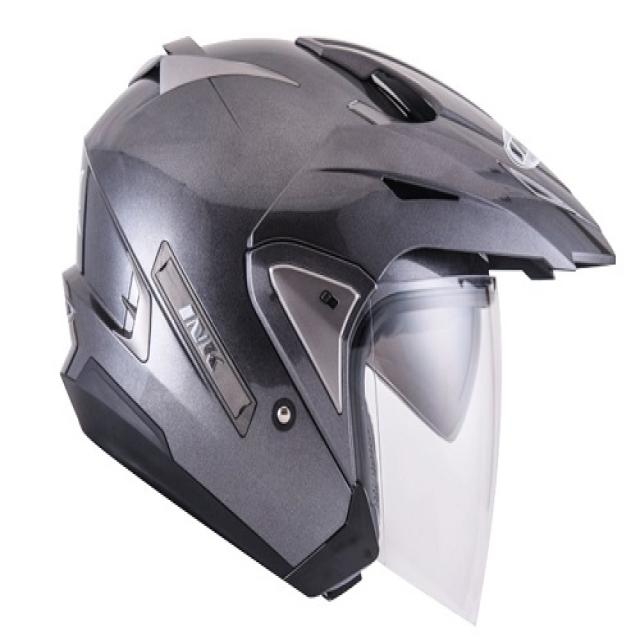Helm: (54, 28, 636, 634)
